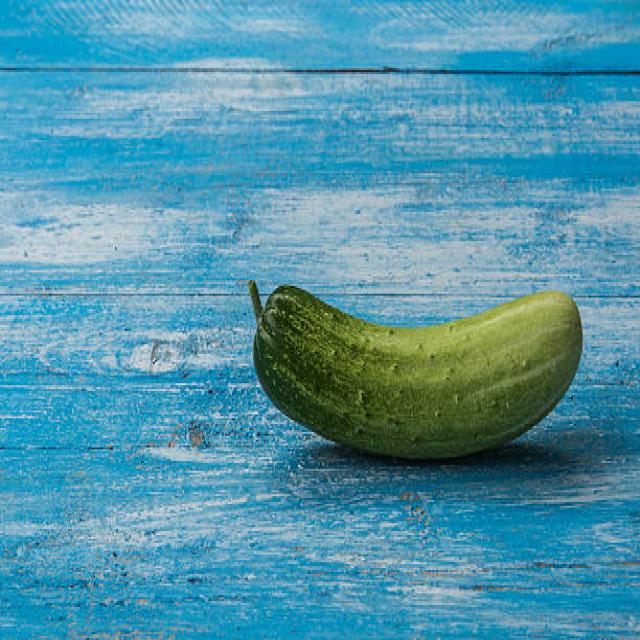cucumber: (254, 284, 581, 463)
